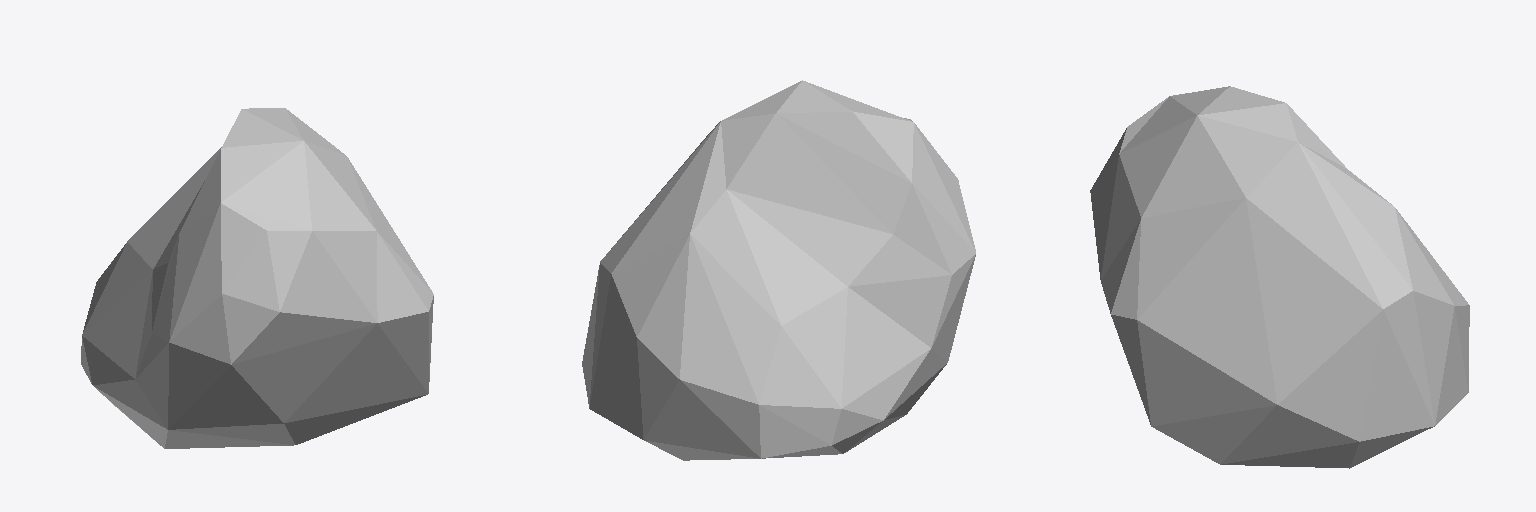
Rendered from stos_top.obj.
3 renders of one model, left to right at view 1: azimuth 30°, elevation 25°; view 2: azimuth 150°, elevation 25°; view 3: azimuth 270°, elevation 25°, orthographic.
Visible parts, largest first — view 1: rock.002; view 2: rock.002; view 3: rock.002.
Part boxes in pixels (x1,y1,x2,y2): rock.002: (81, 108, 433, 448); rock.002: (582, 80, 975, 460); rock.002: (1090, 86, 1469, 468).
Size of the model in its own units: 5.9 by 5.64 by 6.57.